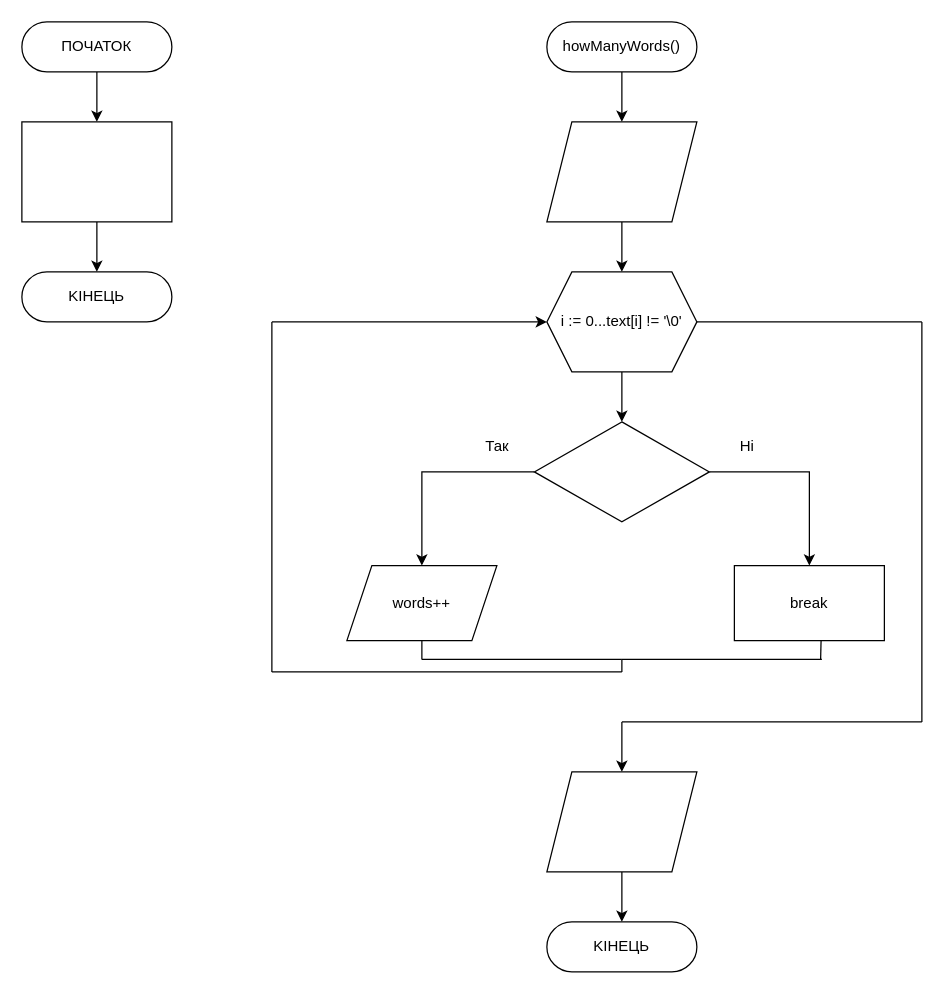
Some shapes in this 945 by 994 pixel diagram are drawn without their labels. Each missing label, with the centre of its shape:
howManyWords("hello World sajdaksj"): [96,171]
int words: [621,171]
return words: [621,821]
text[i]!=' '&&text[i+1]<=: [621,471]
